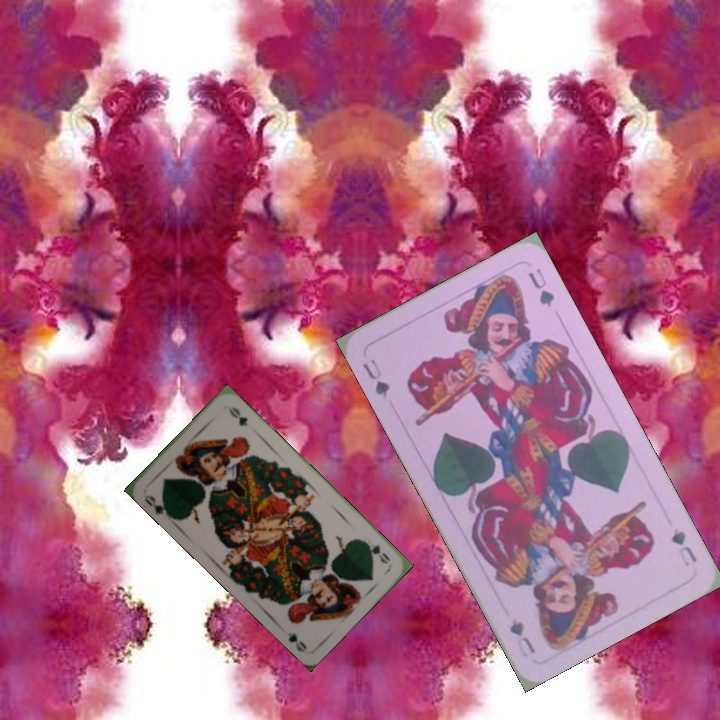GO: (140, 490, 174, 520), (359, 536, 393, 566)
GU: (358, 355, 393, 401), (667, 524, 700, 569)
